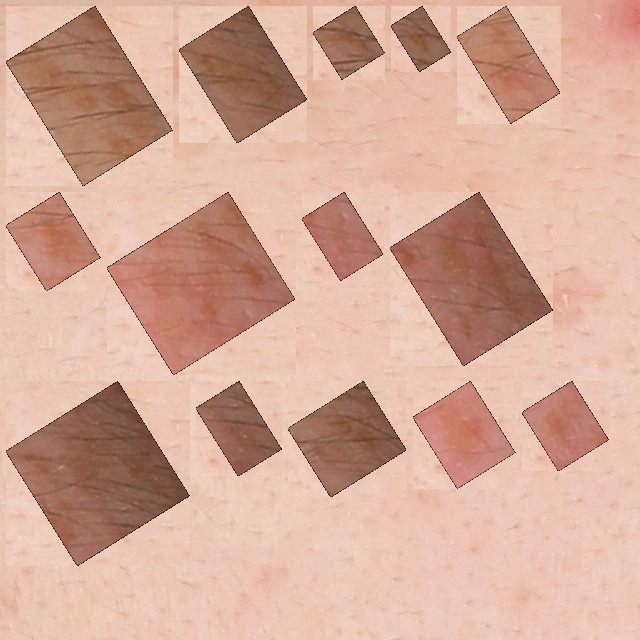melasma: (118, 203, 284, 364), (17, 392, 178, 554), (17, 17, 161, 174), (401, 203, 542, 354), (190, 17, 296, 132), (299, 392, 395, 486), (468, 17, 549, 112), (424, 392, 504, 477), (17, 203, 89, 280), (207, 392, 271, 465), (533, 392, 598, 460), (313, 203, 372, 269), (324, 17, 374, 68), (402, 17, 440, 60)
